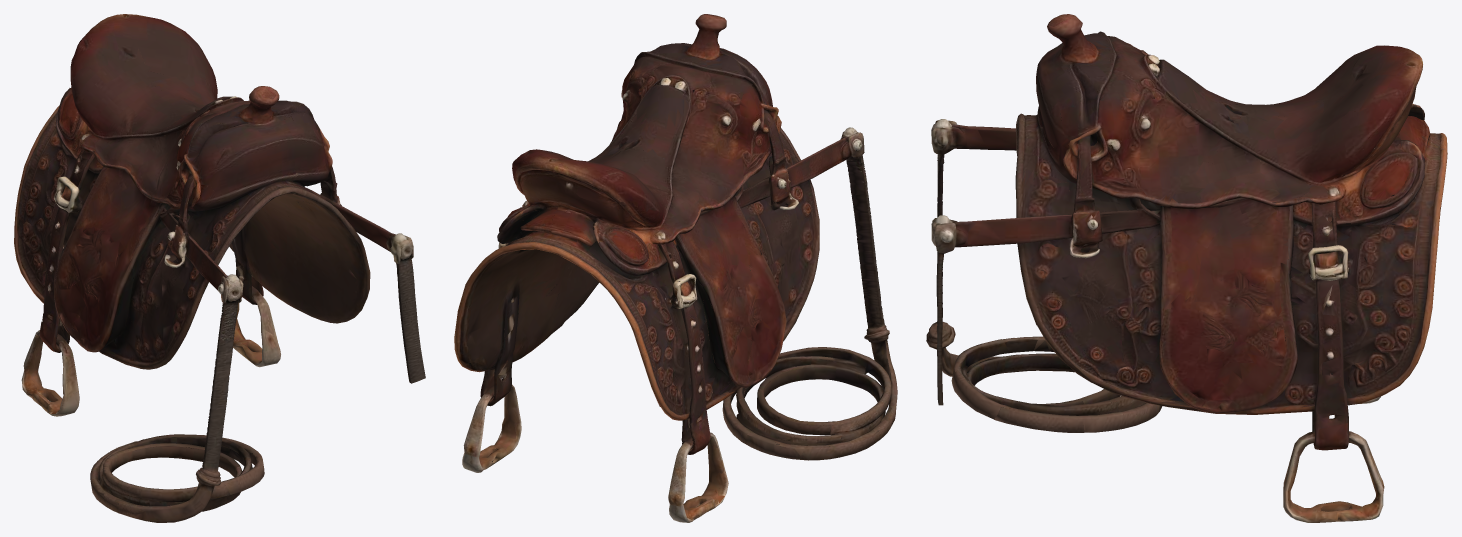
File: saddle-stand.glb
3 views of the same model, side by side, from view 1: azimuth 30°, elevation 25°; view 2: azimuth 150°, elevation 25°; view 3: azimuth 270°, elevation 25° (orthographic). The views are drawn at different scales.
Visible parts, largest first — view 1: saddle-stand; view 2: saddle-stand; view 3: saddle-stand.
Part boxes in pixels (<box>): saddle-stand: <box>14,14,425,522</box>; saddle-stand: <box>454,14,897,522</box>; saddle-stand: <box>926,14,1447,522</box>.
Size of the model in its own units: 0.5 by 0.6481 by 0.6857.
Materials: 1 (1 with a texture image).
